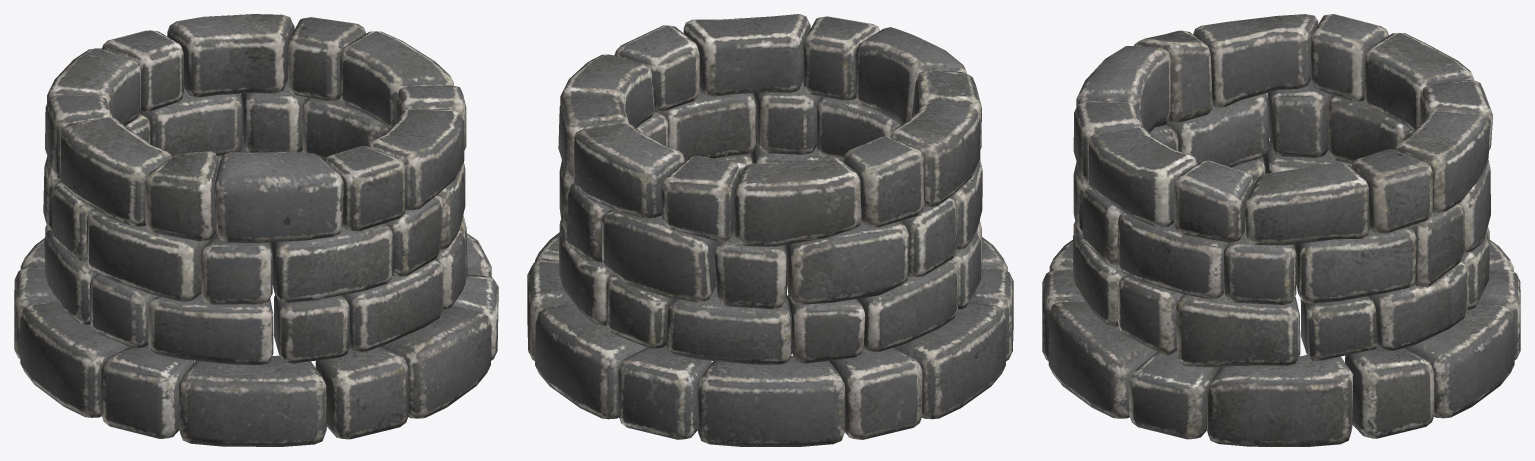
Rendered from low_poly_water_well.glb.
3 views of the same model, side by side, from view 1: azimuth 30°, elevation 25°; view 2: azimuth 150°, elevation 25°; view 3: azimuth 270°, elevation 25° (orthographic).
Visible parts, largest first — view 1: Cube.002_Cube.014; view 2: Cube.002_Cube.014; view 3: Cube.002_Cube.014.
Part boxes in pixels (<box>): Cube.002_Cube.014: <box>14,14,498,446</box>; Cube.002_Cube.014: <box>527,14,1013,446</box>; Cube.002_Cube.014: <box>1042,14,1520,446</box>.
Bounding box in the file's own units: 2 × 1.2 × 2.
1 material, 1 textured.
